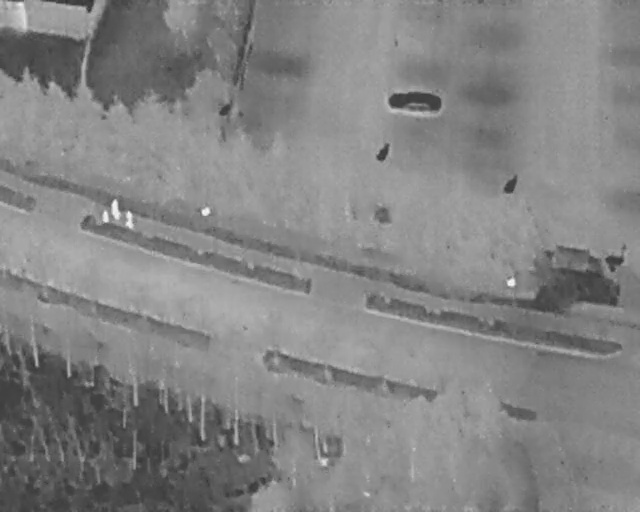Car: (530, 245, 620, 301), (387, 90, 443, 114)
Person: (110, 197, 122, 221), (124, 210, 136, 229), (102, 207, 109, 228)
